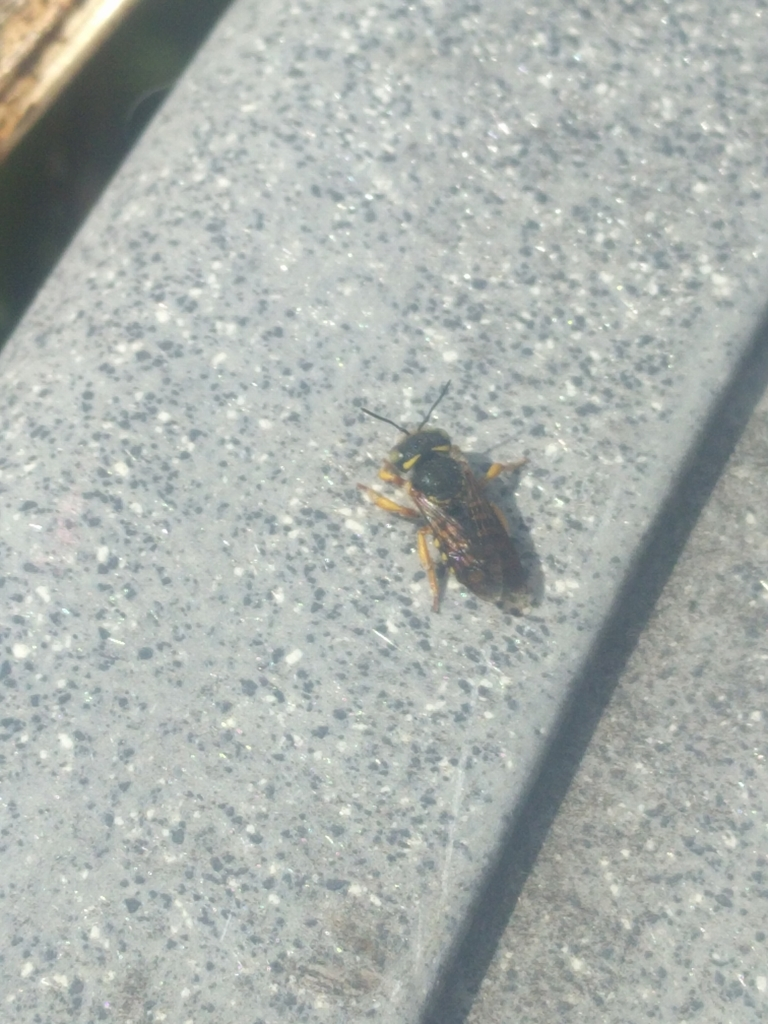not_bumblebee: (355, 378, 549, 619)
